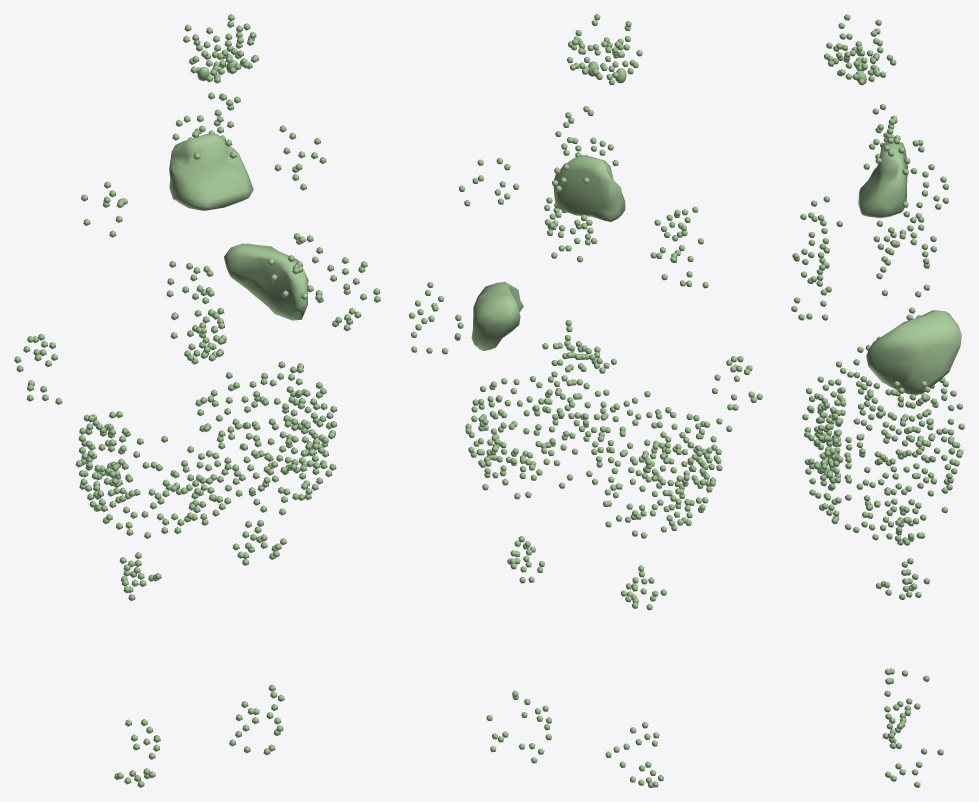
The model's file is pediatric_infant_female.lymphatic.LOD1.glb.
The picture shows the model from 3 angles, left to right: view 1: azimuth 30°, elevation 25°; view 2: azimuth 150°, elevation 25°; view 3: azimuth 270°, elevation 25°; orthographic projection. The views are drawn at different scales.
Parts seen in each view (by area): view 1: PEDIATRIC.INFANT.FEMALE.LYMPHATIC.LYMPHATIC_NODES_TRUNK, PEDIATRIC.INFANT.FEMALE.LYMPHATIC.THYMUS, PEDIATRIC.INFANT.FEMALE.LYMPHATIC.SPLEEN, PEDIATRIC.INFANT.FEMALE.LYMPHATIC.LYMPHATIC_NODES_ET, PEDIATRIC.INFANT.FEMALE.LYMPHATIC.LYMPHATIC_NODES_ARMS, PEDIATRIC.INFANT.FEMALE.LYMPHATIC.LYMPHATIC_NODES_LEGS, PEDIATRIC.INFANT.FEMALE.LYMPHATIC.LYMPHATIC_NODES_THORACIC, PEDIATRIC.INFANT.FEMALE.LYMPHATIC.LYMPHATIC_NODES_HEAD; view 2: PEDIATRIC.INFANT.FEMALE.LYMPHATIC.LYMPHATIC_NODES_TRUNK, PEDIATRIC.INFANT.FEMALE.LYMPHATIC.THYMUS, PEDIATRIC.INFANT.FEMALE.LYMPHATIC.SPLEEN, PEDIATRIC.INFANT.FEMALE.LYMPHATIC.LYMPHATIC_NODES_THORACIC, PEDIATRIC.INFANT.FEMALE.LYMPHATIC.LYMPHATIC_NODES_ET, PEDIATRIC.INFANT.FEMALE.LYMPHATIC.LYMPHATIC_NODES_LEGS, PEDIATRIC.INFANT.FEMALE.LYMPHATIC.LYMPHATIC_NODES_ARMS, PEDIATRIC.INFANT.FEMALE.LYMPHATIC.LYMPHATIC_NODES_HEAD; view 3: PEDIATRIC.INFANT.FEMALE.LYMPHATIC.LYMPHATIC_NODES_TRUNK, PEDIATRIC.INFANT.FEMALE.LYMPHATIC.SPLEEN, PEDIATRIC.INFANT.FEMALE.LYMPHATIC.THYMUS, PEDIATRIC.INFANT.FEMALE.LYMPHATIC.LYMPHATIC_NODES_ET, PEDIATRIC.INFANT.FEMALE.LYMPHATIC.LYMPHATIC_NODES_LEGS, PEDIATRIC.INFANT.FEMALE.LYMPHATIC.LYMPHATIC_NODES_ARMS, PEDIATRIC.INFANT.FEMALE.LYMPHATIC.LYMPHATIC_NODES_THORACIC, PEDIATRIC.INFANT.FEMALE.LYMPHATIC.LYMPHATIC_NODES_HEAD.
Boxes of the visible parts, x1=… form: PEDIATRIC.INFANT.FEMALE.LYMPHATIC.LYMPHATIC_NODES_TRUNK: x1=75, y1=125, x2=337, y2=600; PEDIATRIC.INFANT.FEMALE.LYMPHATIC.THYMUS: x1=169, y1=133, x2=253, y2=210; PEDIATRIC.INFANT.FEMALE.LYMPHATIC.SPLEEN: x1=224, y1=243, x2=308, y2=320; PEDIATRIC.INFANT.FEMALE.LYMPHATIC.LYMPHATIC_NODES_ET: x1=183, y1=14, x2=258, y2=83; PEDIATRIC.INFANT.FEMALE.LYMPHATIC.LYMPHATIC_NODES_ARMS: x1=14, y1=257, x2=380, y2=404; PEDIATRIC.INFANT.FEMALE.LYMPHATIC.LYMPHATIC_NODES_LEGS: x1=114, y1=684, x2=284, y2=787; PEDIATRIC.INFANT.FEMALE.LYMPHATIC.LYMPHATIC_NODES_THORACIC: x1=172, y1=128, x2=226, y2=364; PEDIATRIC.INFANT.FEMALE.LYMPHATIC.LYMPHATIC_NODES_HEAD: x1=175, y1=92, x2=240, y2=159; PEDIATRIC.INFANT.FEMALE.LYMPHATIC.LYMPHATIC_NODES_TRUNK: x1=459, y1=158, x2=722, y2=610; PEDIATRIC.INFANT.FEMALE.LYMPHATIC.THYMUS: x1=553, y1=155, x2=625, y2=221; PEDIATRIC.INFANT.FEMALE.LYMPHATIC.SPLEEN: x1=471, y1=281, x2=523, y2=350; PEDIATRIC.INFANT.FEMALE.LYMPHATIC.LYMPHATIC_NODES_THORACIC: x1=542, y1=164, x2=616, y2=373; PEDIATRIC.INFANT.FEMALE.LYMPHATIC.LYMPHATIC_NODES_ET: x1=567, y1=14, x2=642, y2=85; PEDIATRIC.INFANT.FEMALE.LYMPHATIC.LYMPHATIC_NODES_LEGS: x1=486, y1=690, x2=663, y2=787; PEDIATRIC.INFANT.FEMALE.LYMPHATIC.LYMPHATIC_NODES_ARMS: x1=409, y1=282, x2=762, y2=431; PEDIATRIC.INFANT.FEMALE.LYMPHATIC.LYMPHATIC_NODES_HEAD: x1=555, y1=106, x2=618, y2=166; PEDIATRIC.INFANT.FEMALE.LYMPHATIC.LYMPHATIC_NODES_TRUNK: x1=791, y1=127, x2=964, y2=599; PEDIATRIC.INFANT.FEMALE.LYMPHATIC.SPLEEN: x1=866, y1=310, x2=961, y2=394; PEDIATRIC.INFANT.FEMALE.LYMPHATIC.THYMUS: x1=858, y1=142, x2=907, y2=217; PEDIATRIC.INFANT.FEMALE.LYMPHATIC.LYMPHATIC_NODES_ET: x1=824, y1=14, x2=896, y2=85; PEDIATRIC.INFANT.FEMALE.LYMPHATIC.LYMPHATIC_NODES_LEGS: x1=883, y1=668, x2=943, y2=787; PEDIATRIC.INFANT.FEMALE.LYMPHATIC.LYMPHATIC_NODES_ARMS: x1=876, y1=229, x2=932, y2=447; PEDIATRIC.INFANT.FEMALE.LYMPHATIC.LYMPHATIC_NODES_THORACIC: x1=865, y1=146, x2=948, y2=350; PEDIATRIC.INFANT.FEMALE.LYMPHATIC.LYMPHATIC_NODES_HEAD: x1=863, y1=103, x2=904, y2=169.
Bounding box in the file's own units: 0.2528 × 0.5137 × 0.1108.
